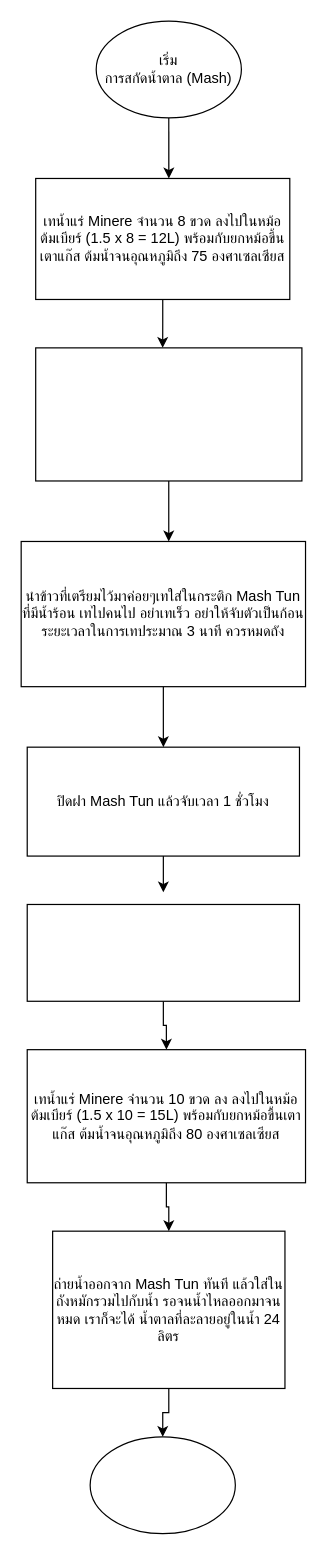
The diagram is 327 pixels wide and 1555 high, and some of its shapes have lost their labels. Here are the shapes that lost their labels. From the top down, the centre of each, then its label:
pixel 168 414: เทน้ำที่ได้จากข้อ 1. ใส่ในกระติก Mash Tun (ระวังน้ำร้อนลวก)
pixel 162 952: เมื่อครบ 1 ชั่วโมงแล้ว ให้เราถ่ายน้ำตาลที่ได้จากการ Mash เก็บไว้ในถังหมักก่อน
pixel 162 1485: จบ
